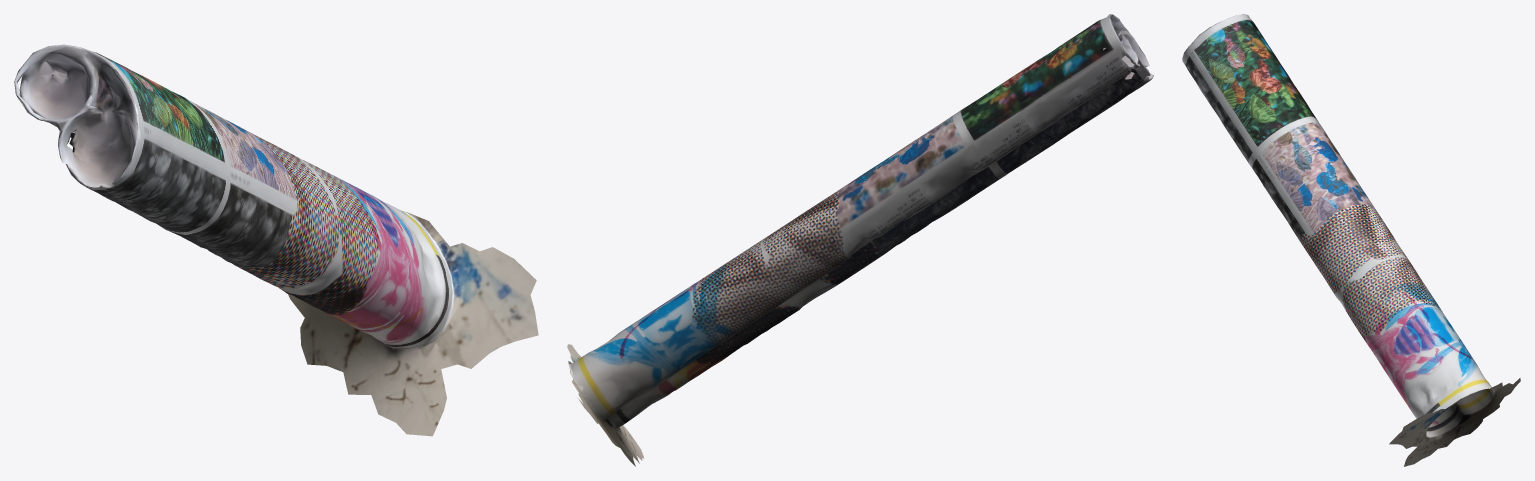
File: printsheet.glb
3 views of the same model, side by side, from view 1: azimuth 30°, elevation 25°; view 2: azimuth 150°, elevation 25°; view 3: azimuth 270°, elevation 25° (orthographic). The views are drawn at different scales.
Visible parts, largest first — view 1: Printsheet; view 2: Printsheet; view 3: Printsheet.
Boxes of the visible parts, <box> form: Printsheet: <box>14,44,538,436</box>; Printsheet: <box>567,14,1153,466</box>; Printsheet: <box>1182,14,1520,466</box>.
Size of the model in its own units: 1.29 by 1.17 by 1.11.
Materials: 1 (1 with a texture image).
